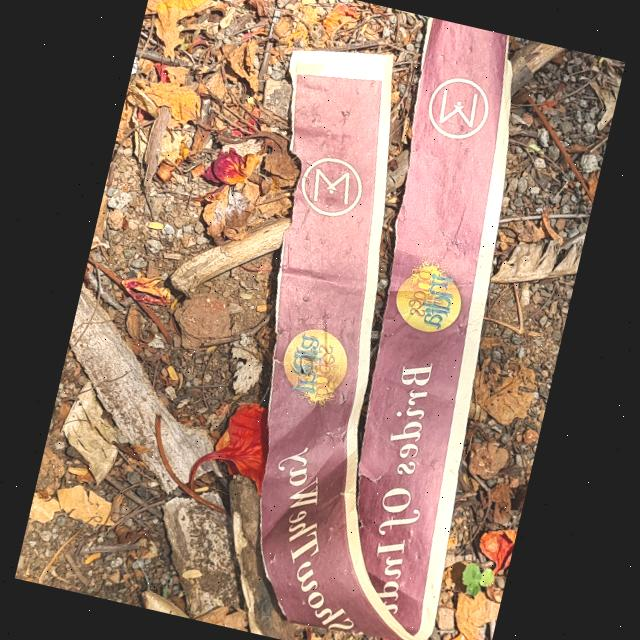trash: (167, 0, 568, 640)
